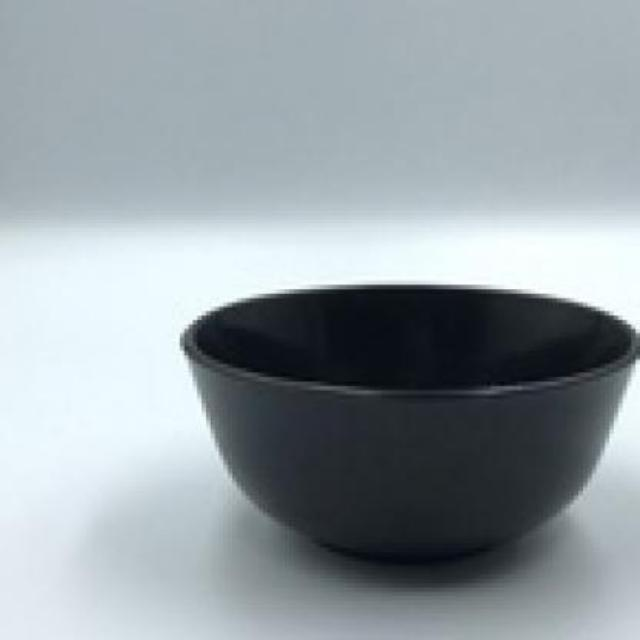plastic_box: (180, 285, 636, 583)
